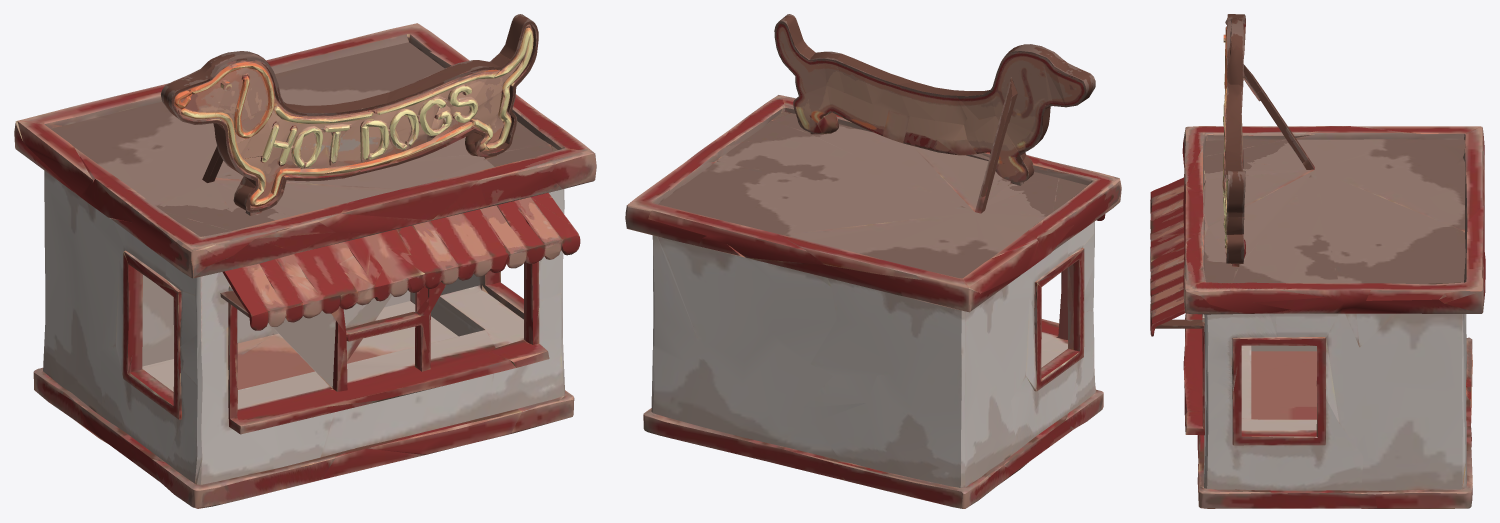
Rendered from doghouse.glb.
3 views of the same model, side by side, from view 1: azimuth 30°, elevation 25°; view 2: azimuth 150°, elevation 25°; view 3: azimuth 270°, elevation 25° (orthographic). The views are drawn at different scales.
Parts seen in each view (by area): view 1: placed; view 2: placed; view 3: placed.
Boxes of the visible parts, x1=… form: placed: x1=14, y1=14, x2=596, y2=508; placed: x1=625, y1=14, x2=1121, y2=508; placed: x1=1150, y1=14, x2=1485, y2=508.
Size of the model in its own units: 9 by 8.97 by 7.64.
Materials: 1 (1 with a texture image).
